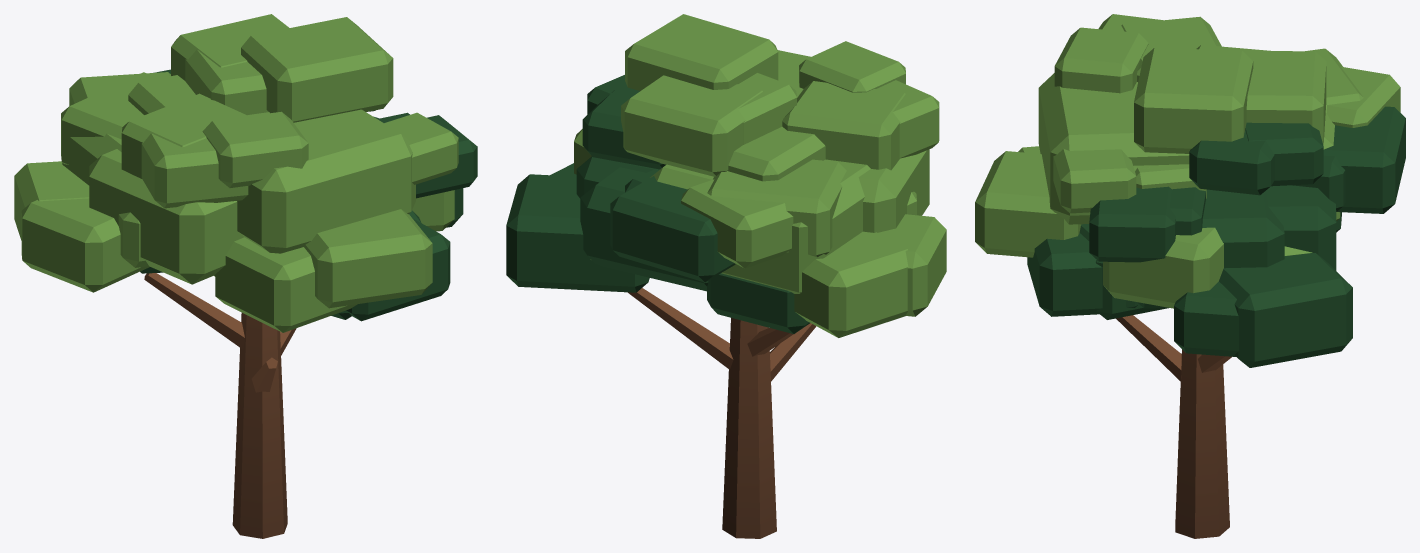
The model's file is tree_round.glb.
3 views of the same model, side by side, from view 1: azimuth 30°, elevation 25°; view 2: azimuth 150°, elevation 25°; view 3: azimuth 270°, elevation 25° (orthographic). The views are drawn at different scales.
Visible parts, largest first — view 1: TreeRound; view 2: TreeRound; view 3: TreeRound.
Boxes of the visible parts, x1,y1,x2,y2 form: TreeRound: (14, 14, 477, 538); TreeRound: (506, 14, 946, 538); TreeRound: (975, 14, 1405, 538).
Size of the model in its own units: 5.09 by 5.54 by 4.49.
